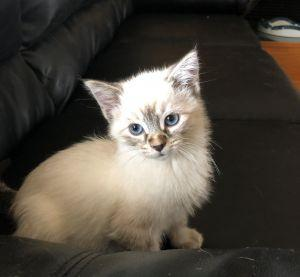siamese: (75, 38, 214, 179)
